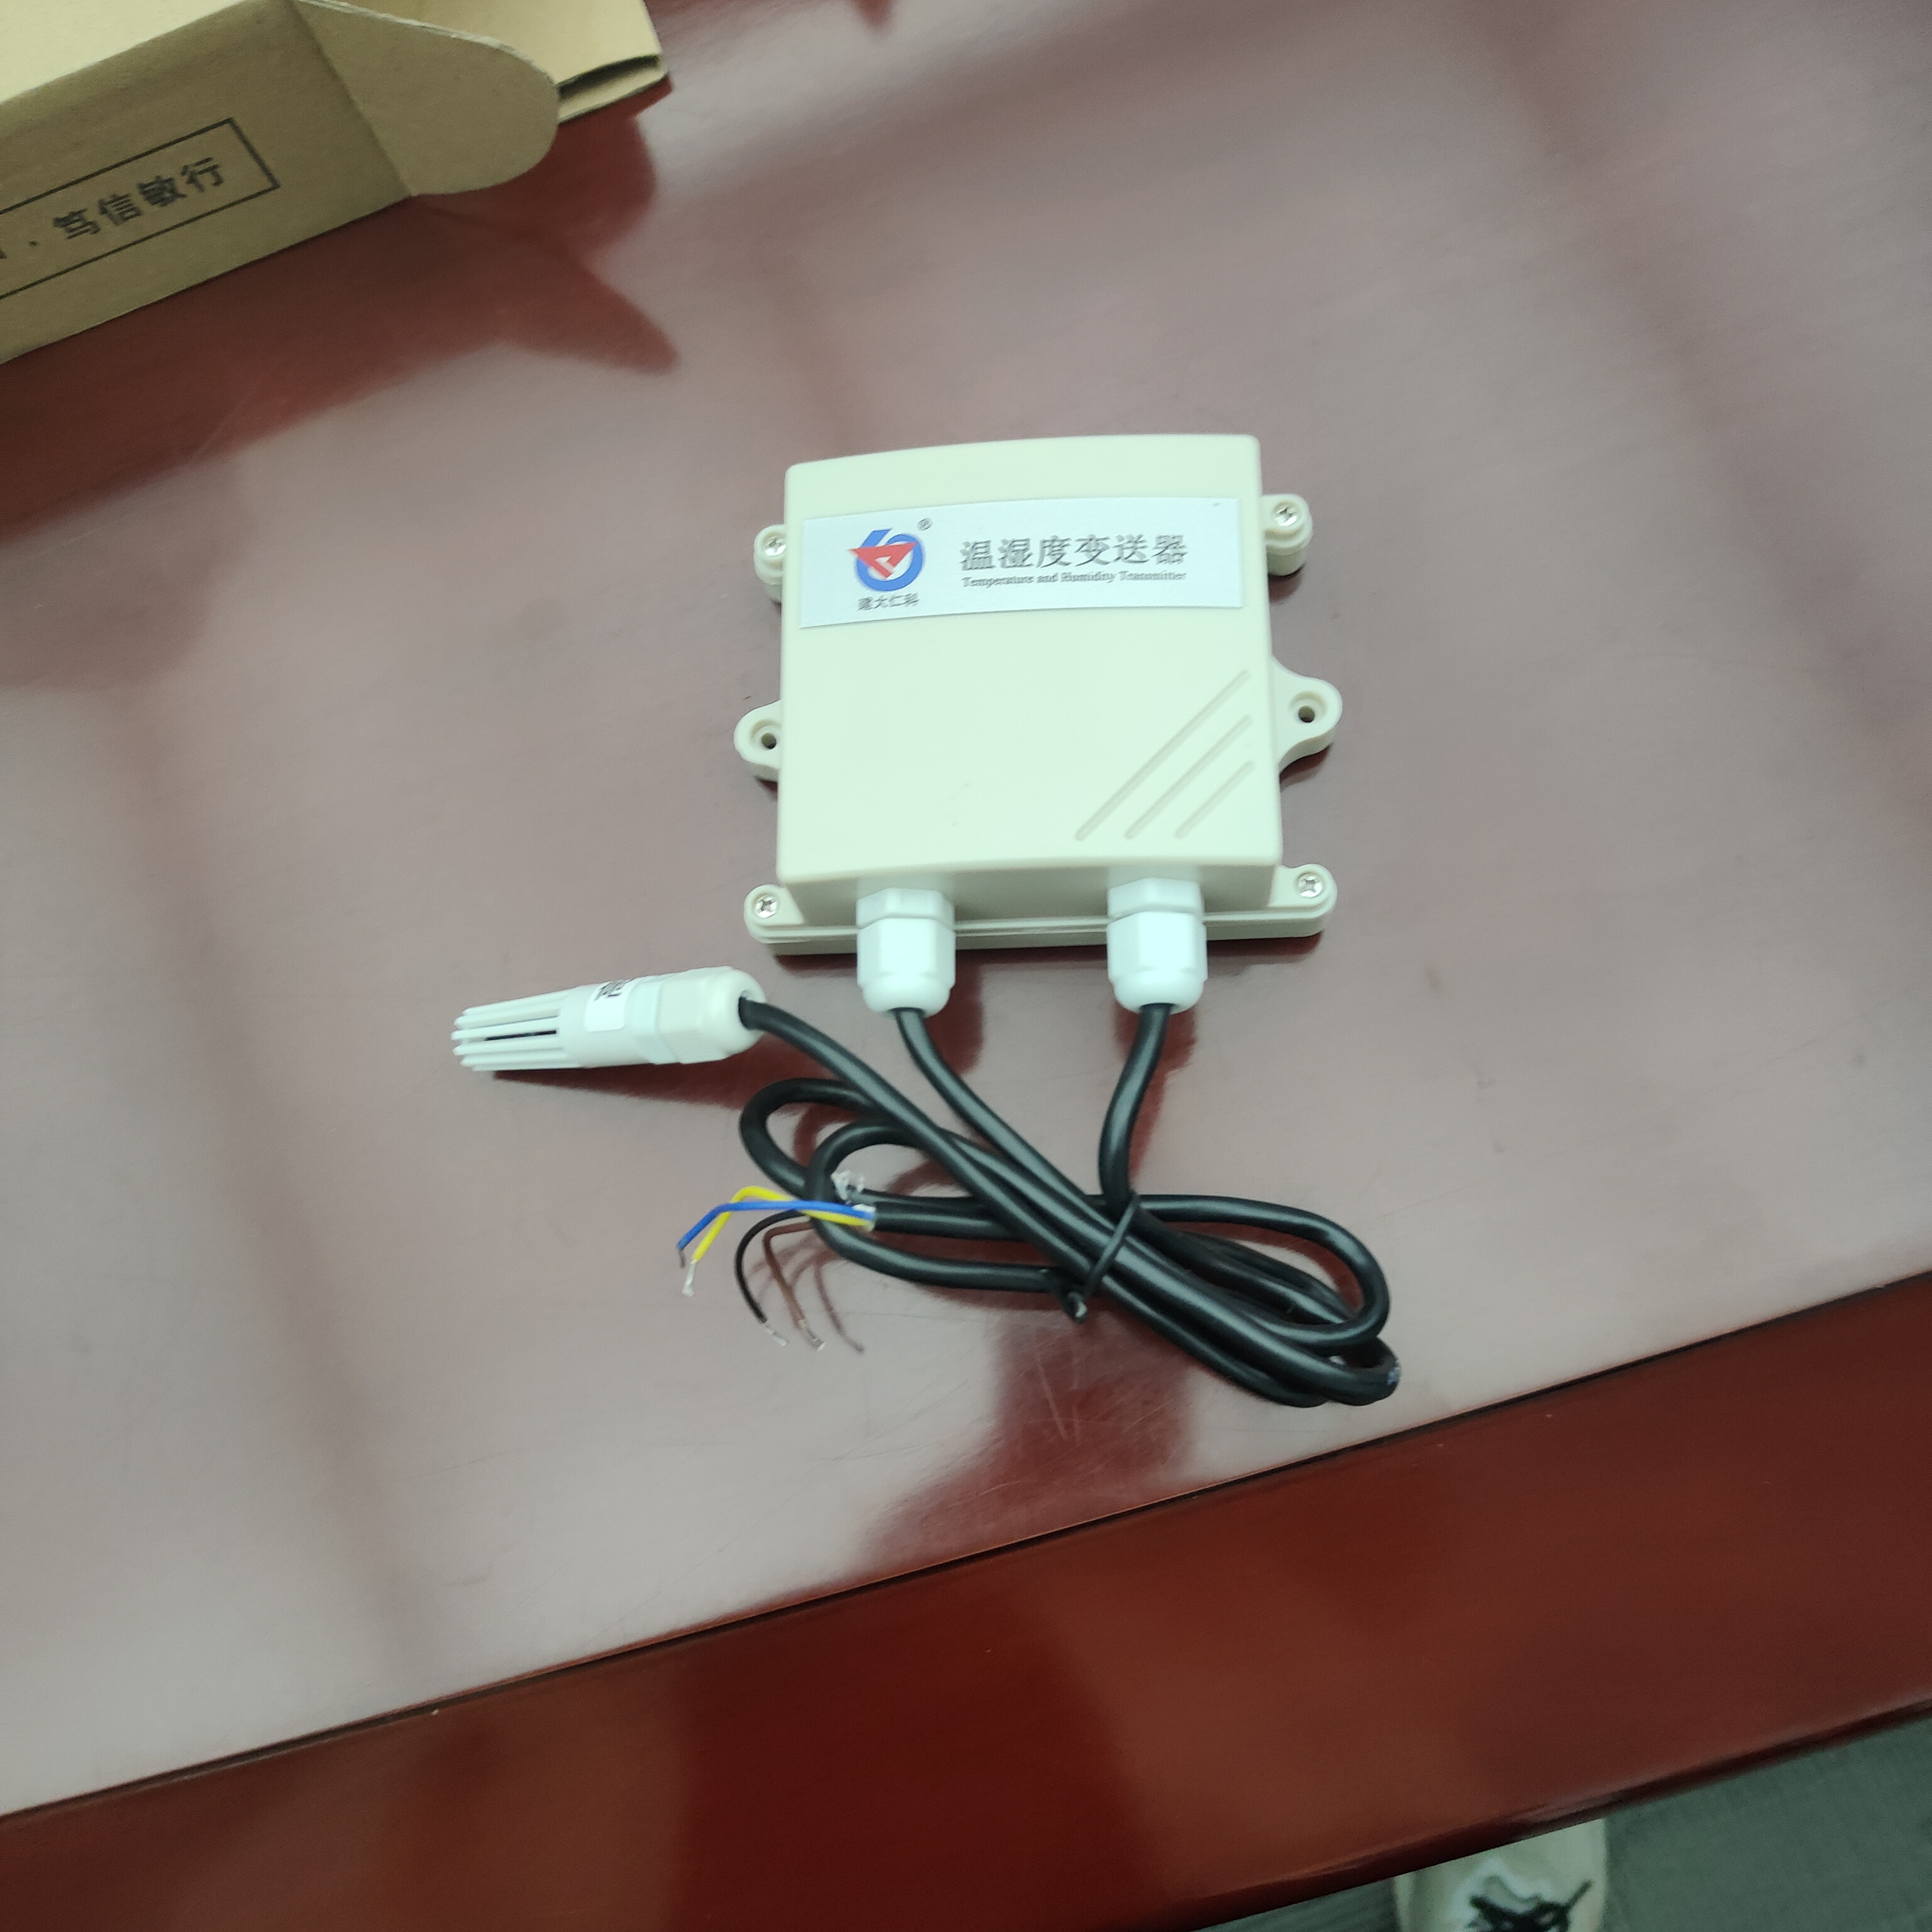wsdbsq: (732, 409, 1378, 1007)
